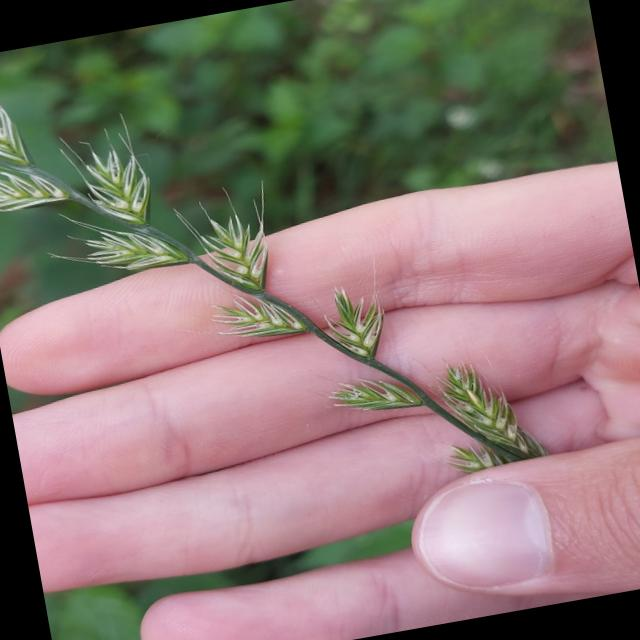Lolium: (0, 0, 554, 549)
